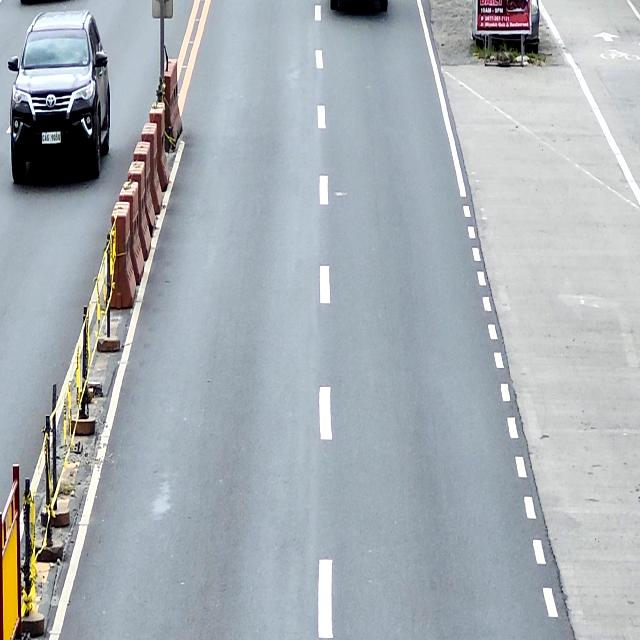Car: (7, 12, 111, 183)
License-Plate: (41, 130, 61, 144)
